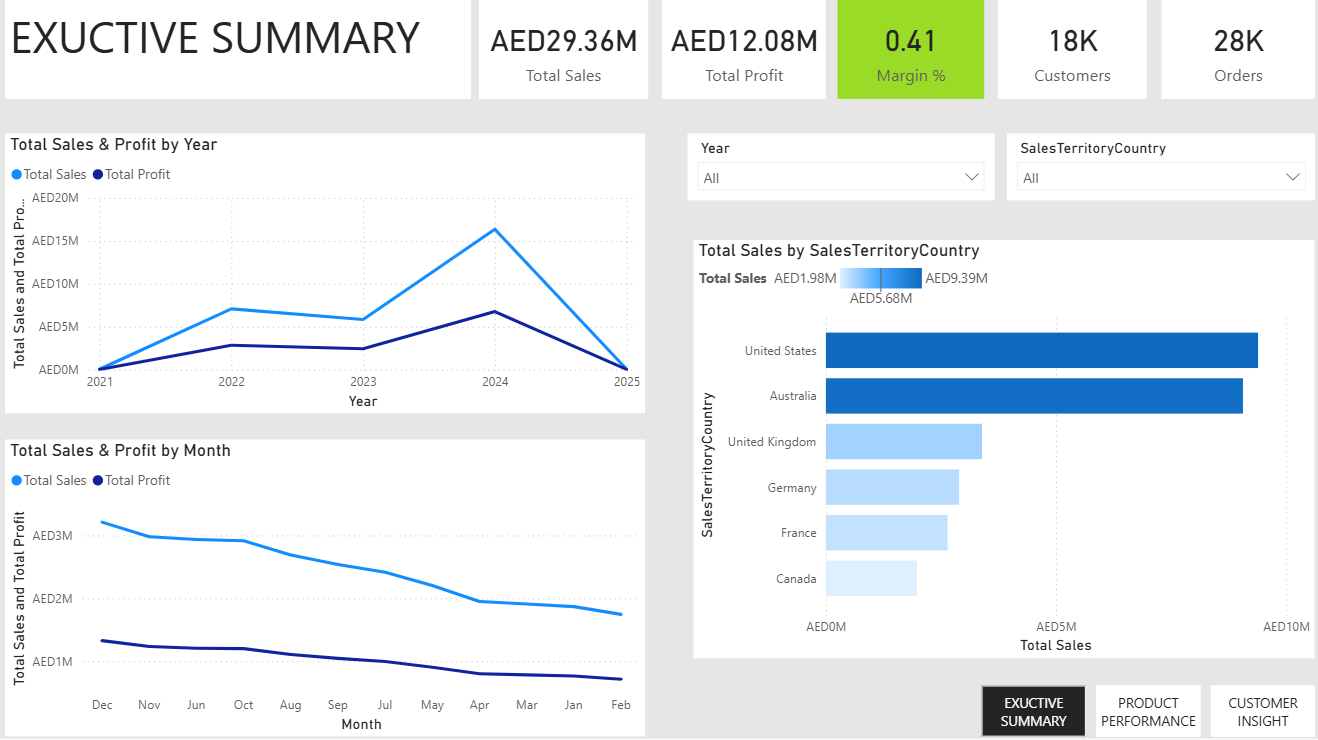

The dashboard page shown, as its layout file describes it:
{"tool":"powerbi","page":{"name":"EXUCTIVE SUMMARY","canvas":[1280,720],"ordinal":0},"visuals":[{"type":"textbox","box":[0,0,455,96.7],"z":0},{"type":"card","fields":{"Values":["key_measures.Orders"]},"box":[1130,0,150,96.7],"z":1000},{"type":"card","fields":{"Values":["key_measures.Total Sales"]},"box":[463.3,0,165,96.7],"z":2000},{"type":"card","fields":{"Values":["key_measures.Margin %"]},"box":[813.3,0,143.3,96.7],"z":3000},{"type":"card","fields":{"Values":["key_measures.Total Profit"]},"box":[641.7,0,160,96.7],"z":4000},{"type":"card","fields":{"Values":["key_measures.Customers"]},"box":[970,0,145,96.7],"z":5000},{"type":"lineChart","title":"Total Sales & Profit by Month","fields":{"Y":["key_measures.Total Sales","key_measures.Total Profit"],"Category":["Calendar.Month"]},"box":[0,430,625,290],"z":6000},{"type":"barChart","fields":{"Y":["key_measures.Total Sales"],"Category":["DimSalesTerritory.SalesTerritoryCountry"]},"box":[673.3,235,606.7,408.3],"z":7000},{"type":"slicer","fields":{"Values":["Calendar.Year"]},"box":[666.7,130,300,65],"z":8000},{"type":"slicer","fields":{"Values":["DimSalesTerritory.SalesTerritoryCountry"]},"box":[978.3,130,301.7,65],"z":9000},{"type":"lineChart","title":"Total Sales & Profit by Year","fields":{"Y":["key_measures.Total Sales","key_measures.Total Profit"],"Category":["Calendar.Year"]},"box":[0,130,625,273.3],"z":10000},{"type":"pageNavigator","box":[953.3,670,326.7,50],"z":11000}]}

Visuals, with their boxes in screenshot pixels (x1, y1, x2, y2), scaled from the page's 1280x720 canvas onto the 1318x740 screenshot:
textbox: Rect(0, 0, 469, 99)
card - key_measures.Orders: Rect(1164, 0, 1317, 99)
card - key_measures.Total Sales: Rect(477, 0, 647, 99)
card - key_measures.Margin %: Rect(837, 0, 985, 99)
card - key_measures.Total Profit: Rect(661, 0, 826, 99)
card - key_measures.Customers: Rect(999, 0, 1148, 99)
"Total Sales & Profit by Month" lineChart: Rect(0, 442, 644, 739)
barChart - key_measures.Total Sales x DimSalesTerritory.SalesTerritoryCountry: Rect(693, 242, 1317, 661)
slicer - Calendar.Year: Rect(686, 134, 995, 200)
slicer - DimSalesTerritory.SalesTerritoryCountry: Rect(1007, 134, 1317, 200)
"Total Sales & Profit by Year" lineChart: Rect(0, 134, 644, 415)
pageNavigator: Rect(982, 689, 1317, 739)
